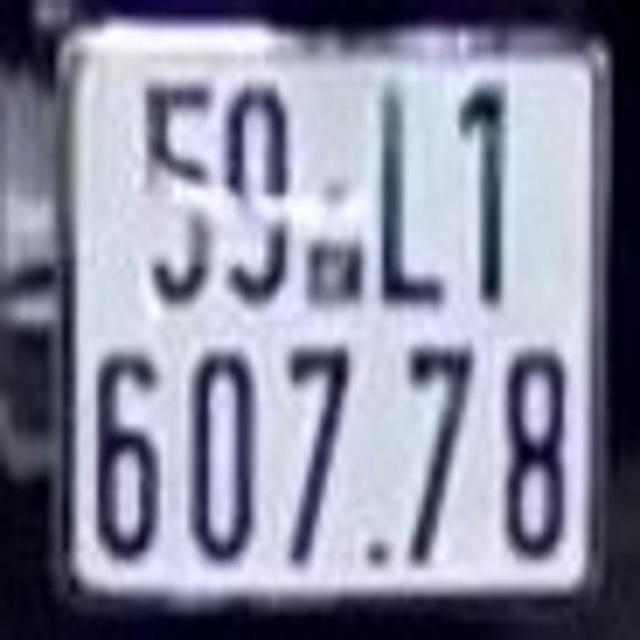0: (192, 348, 259, 566)
1: (465, 91, 513, 296)
5: (148, 86, 216, 302)
6: (98, 365, 161, 554)
7: (401, 351, 474, 570), (288, 350, 343, 564)
8: (508, 348, 567, 564)
9: (223, 93, 292, 298)
L: (375, 98, 454, 301)
